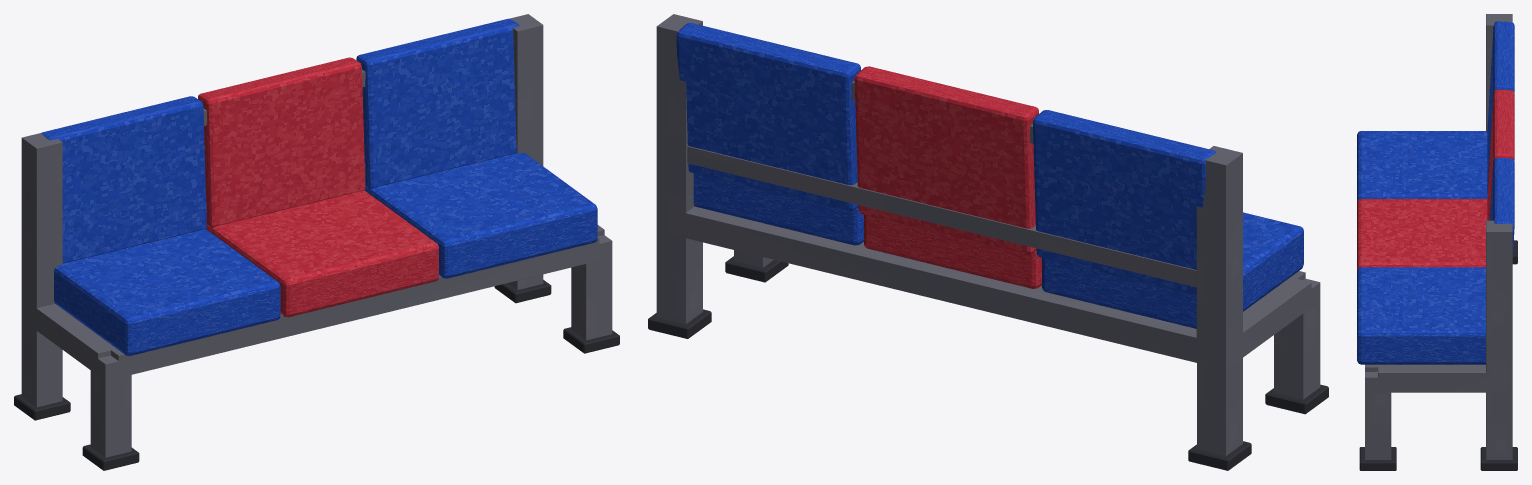
The model's file is bench_three_seat_blue_red_blue.glb.
3 renders of one model, left to right at view 1: azimuth 30°, elevation 25°; view 2: azimuth 150°, elevation 25°; view 3: azimuth 270°, elevation 25°, orthographic. The views are drawn at different scales.
Parts seen in each view (by area): view 1: joined_square_metal_frame, back_2_flattened_cushion, back_3_flattened_cushion, back_1_flattened_cushion, seat_1_flattened_cushion, seat_2_flattened_cushion, seat_3_flattened_cushion, left_front_dark_foot_cap, left_rear_dark_foot_cap, right_front_dark_foot_cap, right_rear_dark_foot_cap; view 2: joined_square_metal_frame, back_2_flattened_cushion, back_3_flattened_cushion, back_1_flattened_cushion, seat_1_flattened_cushion, seat_2_flattened_cushion, seat_3_flattened_cushion, left_front_dark_foot_cap, left_rear_dark_foot_cap, right_rear_dark_foot_cap, right_front_dark_foot_cap; view 3: seat_3_flattened_cushion, joined_square_metal_frame, seat_2_flattened_cushion, seat_1_flattened_cushion, back_1_flattened_cushion, back_2_flattened_cushion, back_3_flattened_cushion, right_front_dark_foot_cap, right_rear_dark_foot_cap.
Boxes of the visible parts, x1,y1,x2,y2 form: joined_square_metal_frame: (21,14,612,457); back_2_flattened_cushion: (198,57,365,227); back_3_flattened_cushion: (356,18,519,188); back_1_flattened_cushion: (41,96,206,263); seat_1_flattened_cushion: (54,229,280,355); seat_2_flattened_cushion: (206,190,438,317); seat_3_flattened_cushion: (365,152,597,278); left_front_dark_foot_cap: (82,444,139,470); left_rear_dark_foot_cap: (14,394,70,420); right_front_dark_foot_cap: (563,327,619,353); right_rear_dark_foot_cap: (494,280,551,303); joined_square_metal_frame: (656,14,1320,455); back_2_flattened_cushion: (854,66,1038,254); back_3_flattened_cushion: (676,23,860,210); back_1_flattened_cushion: (1033,110,1215,295); seat_1_flattened_cushion: (1042,212,1303,328); seat_2_flattened_cushion: (864,214,1041,288); seat_3_flattened_cushion: (693,173,863,245); left_front_dark_foot_cap: (1265,384,1328,414); left_rear_dark_foot_cap: (1188,441,1251,470); right_rear_dark_foot_cap: (648,309,711,338); right_front_dark_foot_cap: (725,256,788,282); seat_3_flattened_cushion: (1357,267,1485,364); joined_square_metal_frame: (1365,14,1512,459); seat_2_flattened_cushion: (1357,199,1487,270); seat_1_flattened_cushion: (1357,131,1487,202); back_1_flattened_cushion: (1487,21,1514,193); back_2_flattened_cushion: (1487,89,1514,220); back_3_flattened_cushion: (1490,157,1514,257); right_front_dark_foot_cap: (1359,447,1396,470); right_rear_dark_foot_cap: (1480,447,1517,470).
Size of the model in its own units: 1.98 by 0.9907 by 0.6055.
Materials: 4 (4 with a texture image).
